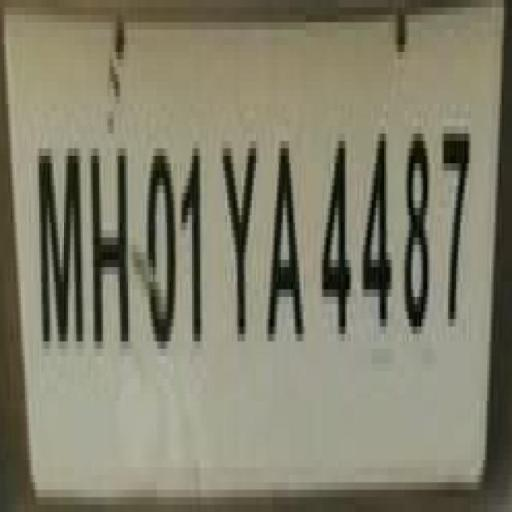number plate: (20, 8, 510, 468)
